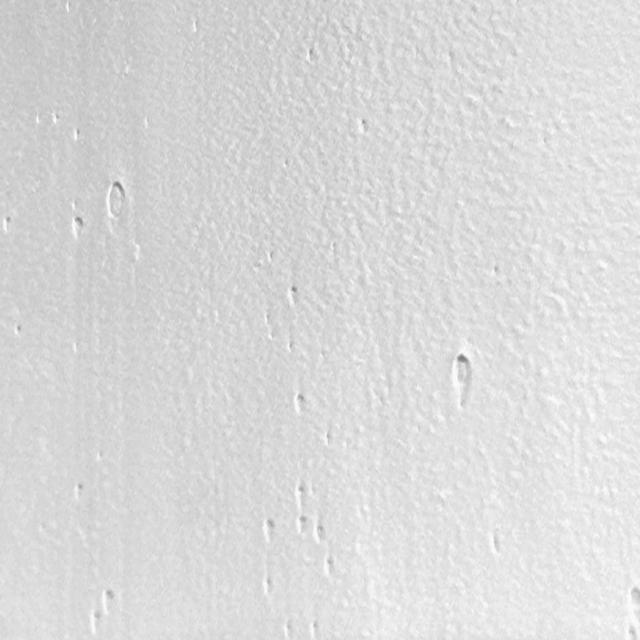pin holes: (447, 348, 477, 412), (104, 180, 129, 219), (626, 587, 640, 625), (485, 530, 503, 558), (86, 610, 105, 636), (290, 392, 309, 417), (99, 586, 117, 612), (70, 216, 89, 240), (260, 514, 276, 542), (320, 556, 338, 579), (298, 515, 314, 540), (284, 282, 300, 306), (7, 318, 26, 338), (313, 520, 328, 544), (0, 214, 15, 237), (354, 118, 371, 138), (72, 480, 87, 501), (294, 482, 307, 505), (295, 514, 309, 535), (321, 428, 335, 449), (261, 574, 273, 598), (308, 619, 322, 639), (282, 620, 296, 640), (285, 338, 297, 356), (304, 46, 316, 64), (72, 126, 84, 143), (12, 323, 24, 339), (264, 252, 275, 266), (50, 110, 58, 126)
